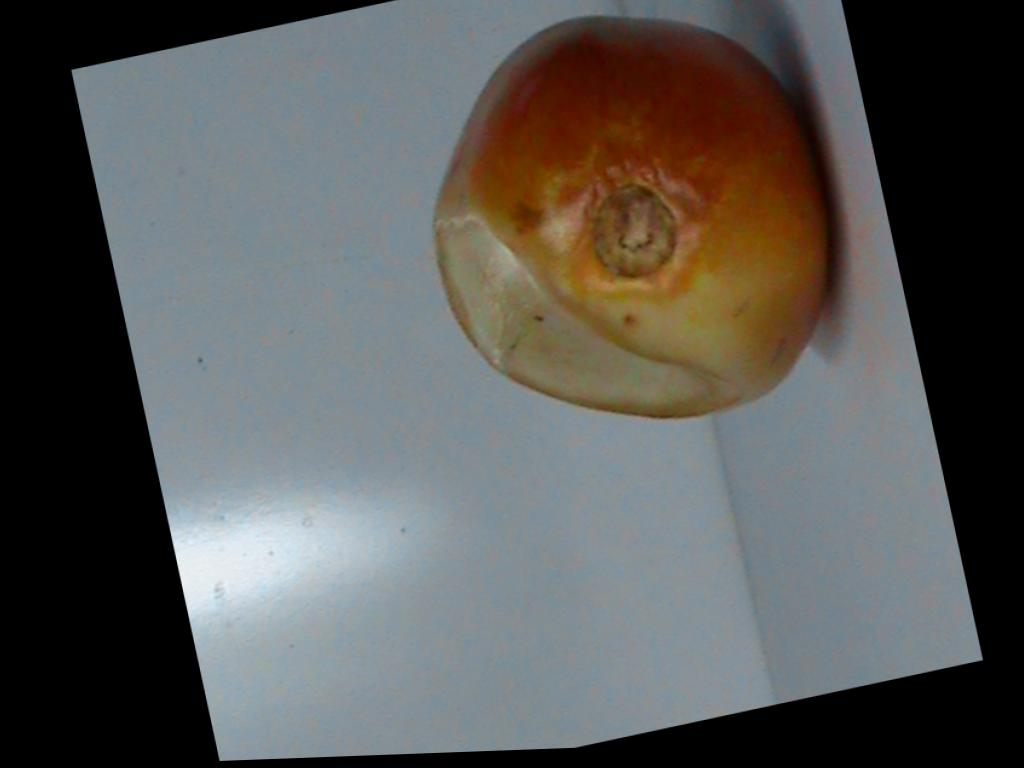bruise_discoloration: (461, 186, 824, 419), (435, 201, 721, 416)
tomato: (434, 16, 824, 417)
